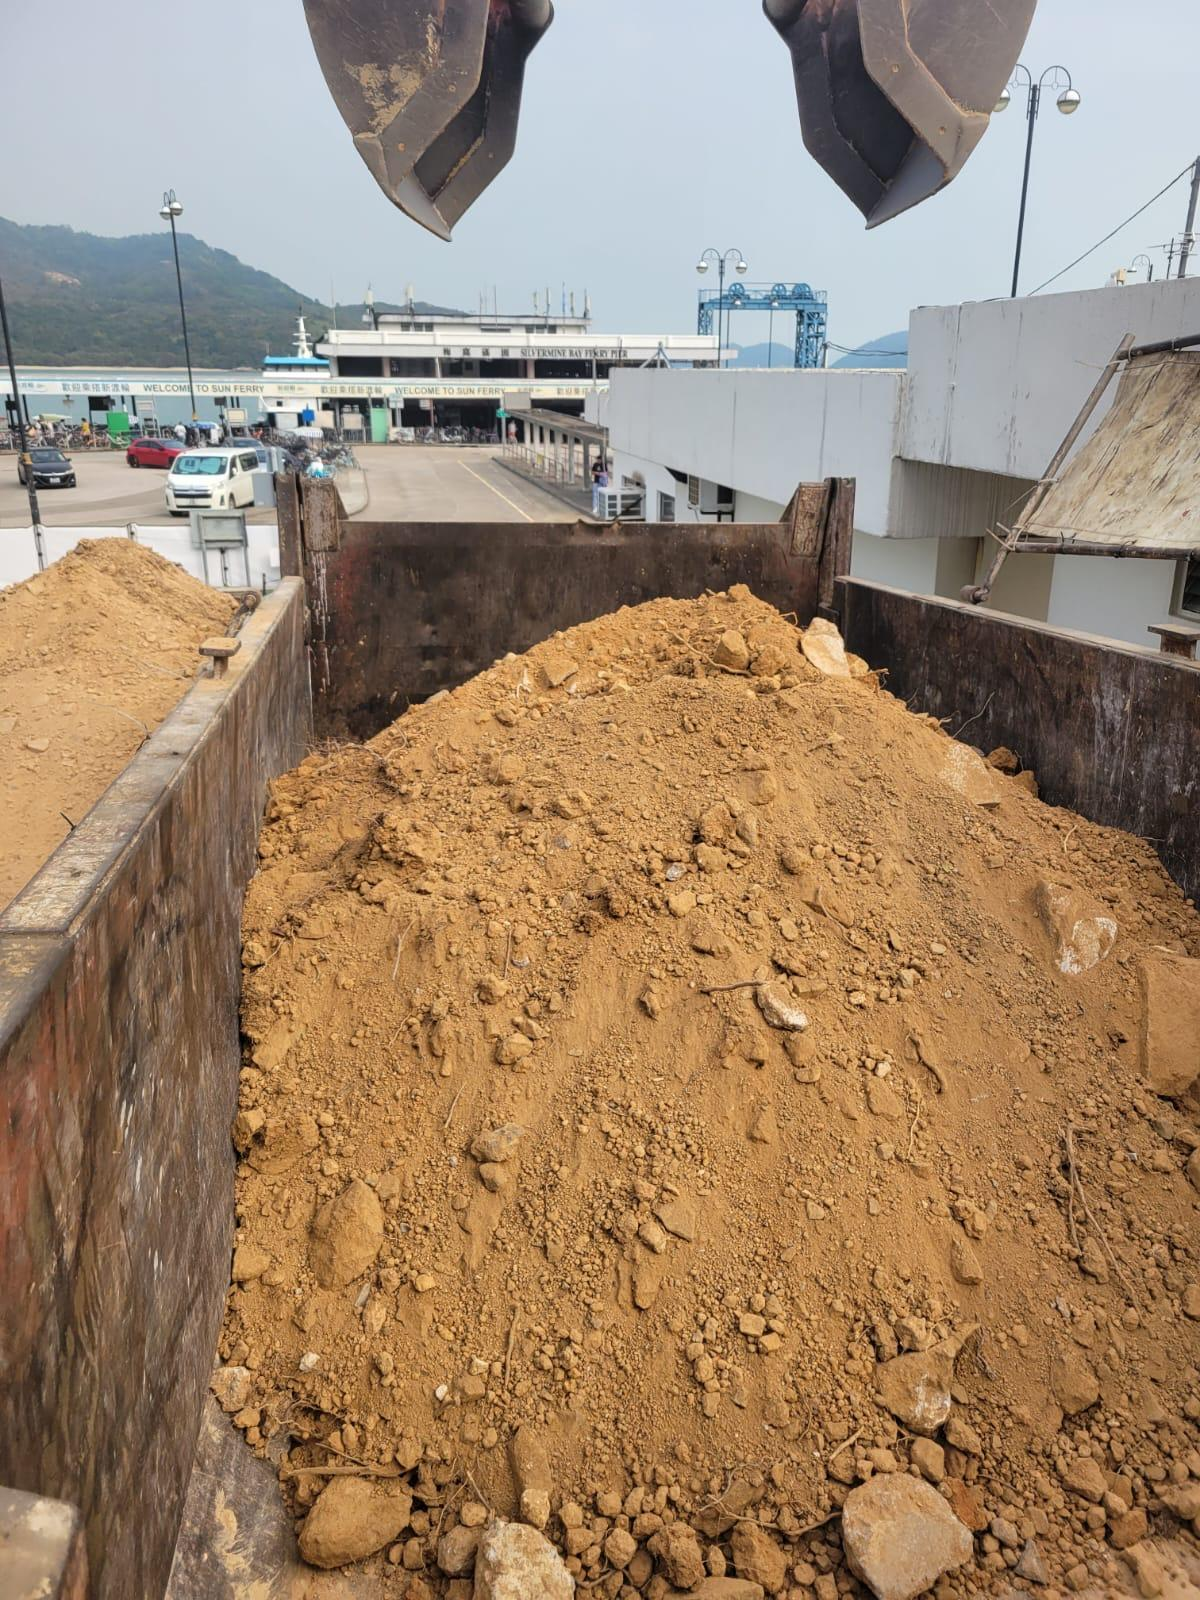dry: (234, 590, 1195, 1590)
